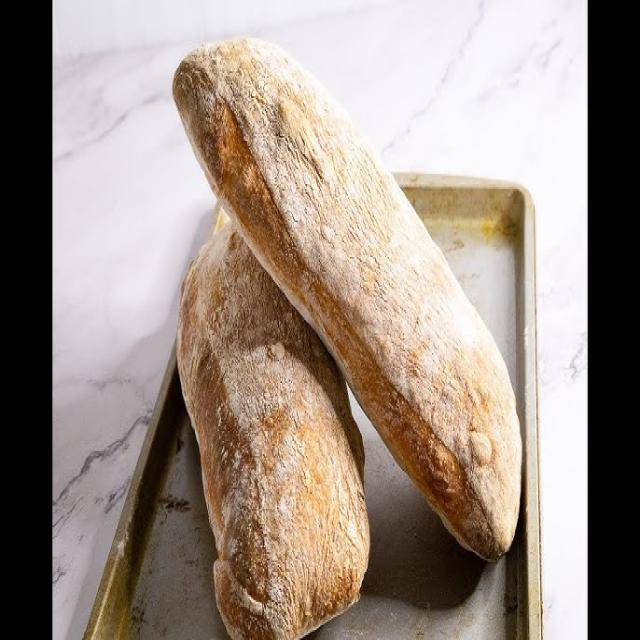Ciabatta: (173, 40, 521, 559), (179, 216, 369, 638)
